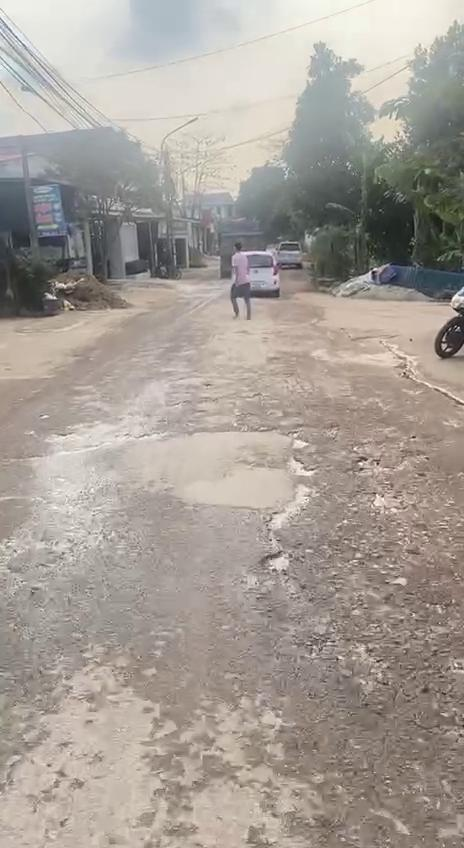pothole: (299, 630, 392, 696), (353, 447, 408, 520), (264, 484, 314, 534), (282, 426, 320, 480), (258, 550, 292, 578)
